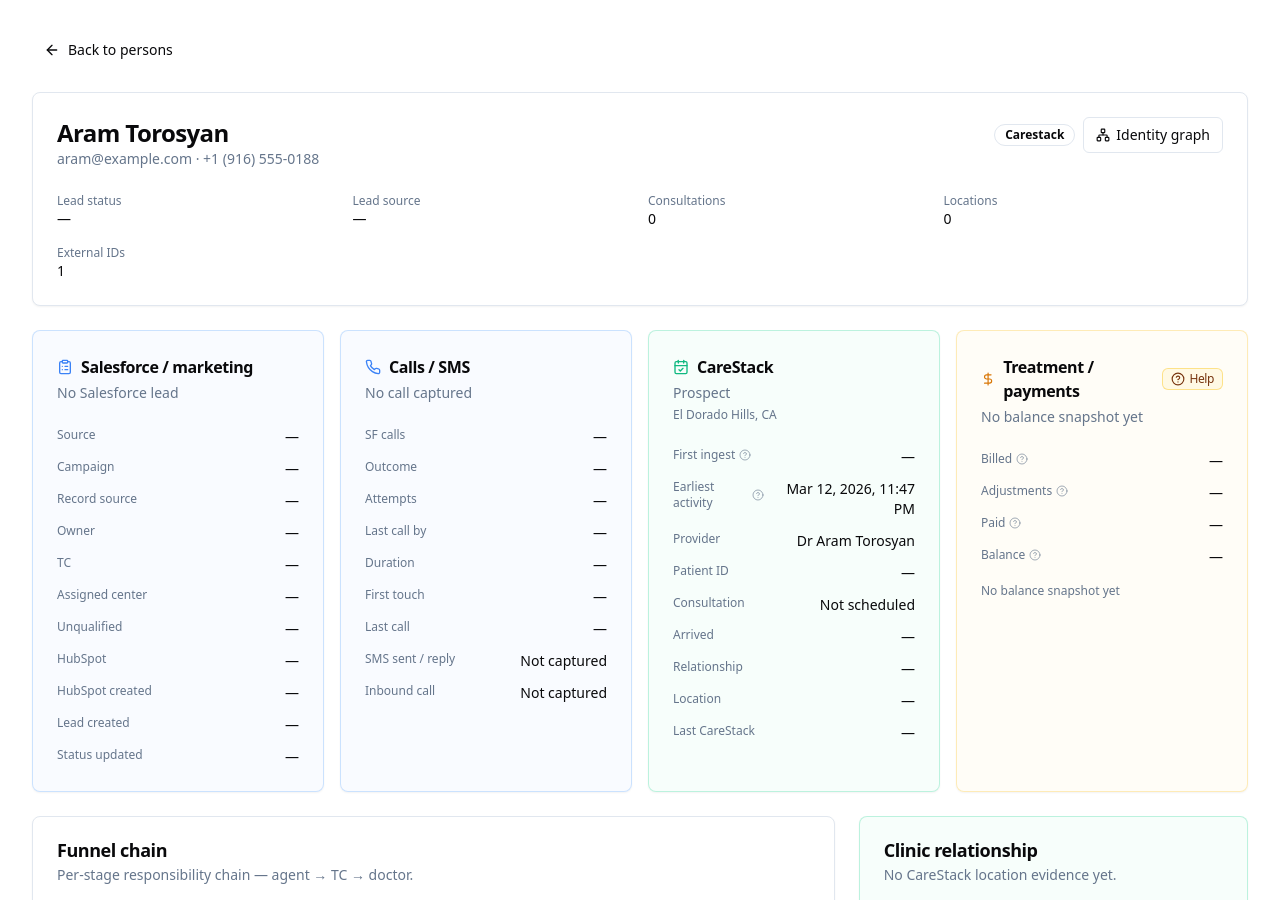
Scenario: CareStack identity card on PersonDetailPage (ENG-308) › renames "Patient since" to "First ingest" and exposes its info toggle
Expected: the text "Aram Torosyan" is shown, [57, 116, 229, 149]
Expected: the text "First ingest" is shown, [673, 447, 751, 463]
Click the button named "What is First ingest?": click(745, 455) [739, 449, 751, 461]
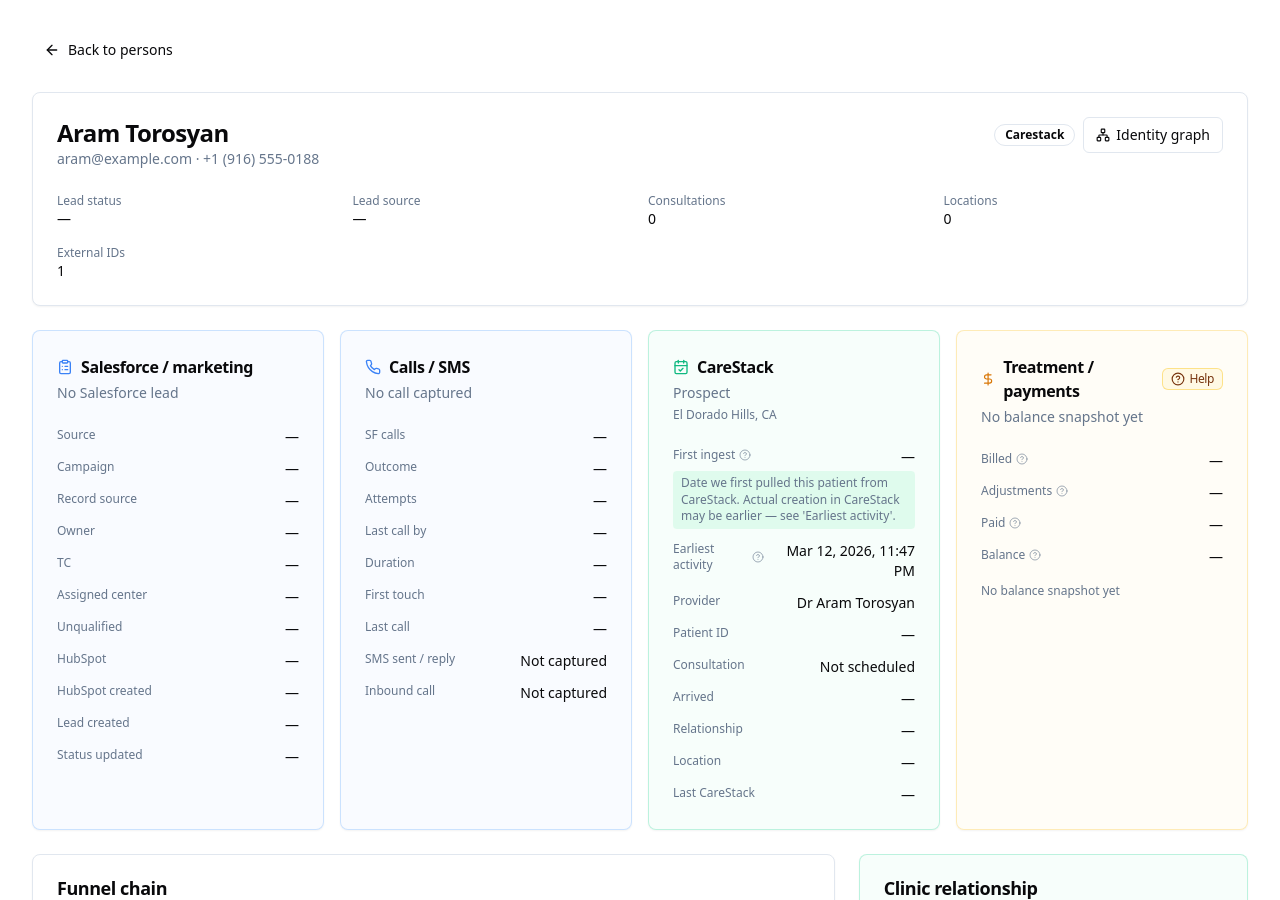
Expected: the text "Actual creation in CareStack may be earlier" is shown, [681, 474, 900, 524]
